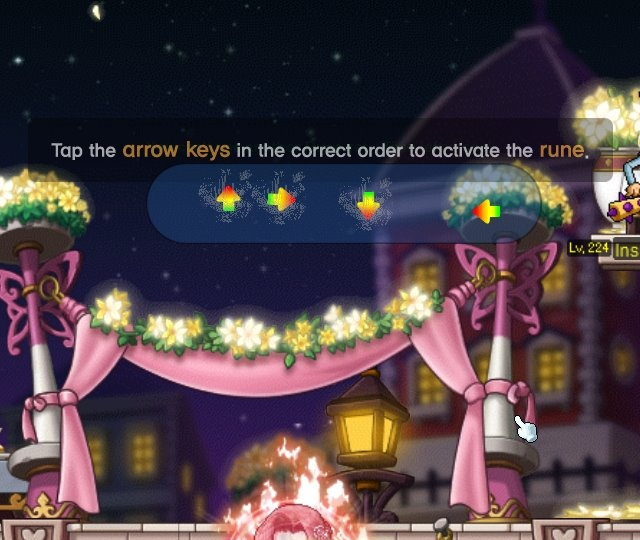down: (349, 185, 388, 227)
left: (466, 193, 506, 235)
right: (259, 183, 300, 216)
up: (204, 177, 248, 221)
